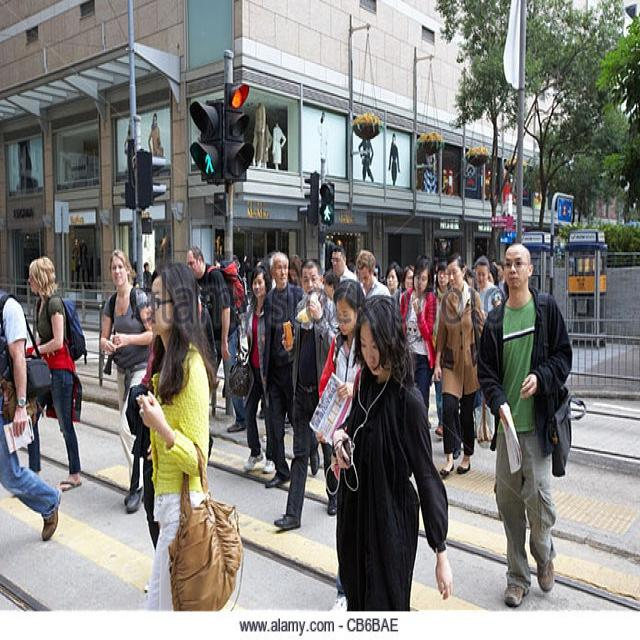body: (1, 94, 571, 308), (129, 256, 246, 639), (474, 239, 590, 613), (330, 293, 456, 613), (272, 256, 341, 534), (313, 276, 364, 614), (22, 251, 91, 498), (96, 245, 156, 517), (0, 288, 63, 541), (261, 248, 321, 490), (181, 242, 253, 434), (430, 249, 487, 483), (233, 262, 281, 478), (399, 252, 439, 425), (431, 259, 451, 438), (472, 252, 505, 318), (353, 246, 391, 298), (325, 244, 361, 284), (384, 259, 405, 304)
